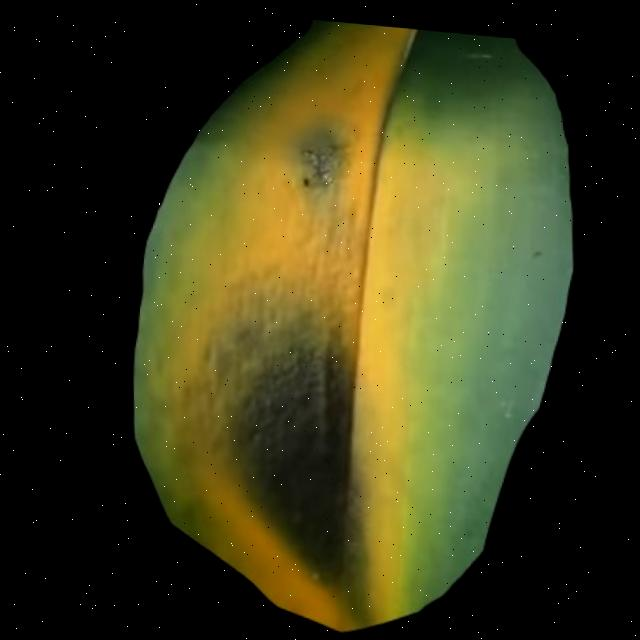mite: (286, 128, 546, 258), (293, 133, 340, 187), (462, 38, 496, 59), (519, 231, 545, 258), (293, 165, 312, 186), (296, 138, 315, 156), (299, 563, 315, 578), (524, 238, 540, 252), (296, 170, 308, 182)
spots: (117, 5, 577, 640)
